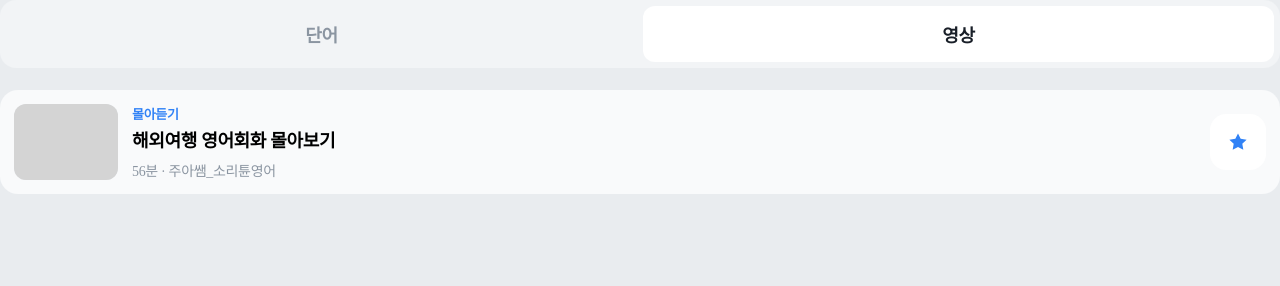
즐겨찾기 화면 › 영상을 전부 지우면 영상 빈 상태가 나온다
Expected: the text "해외여행 영어회화 몰아보기" is shown, [132,131,335,151]
What coordinates should you click on to do the following:
click the button named "해외여행 영어회화 몰아보기 즐겨찾기 해제"
I would click on:
 (1238, 142)
Its box is [1210,114,1266,170].
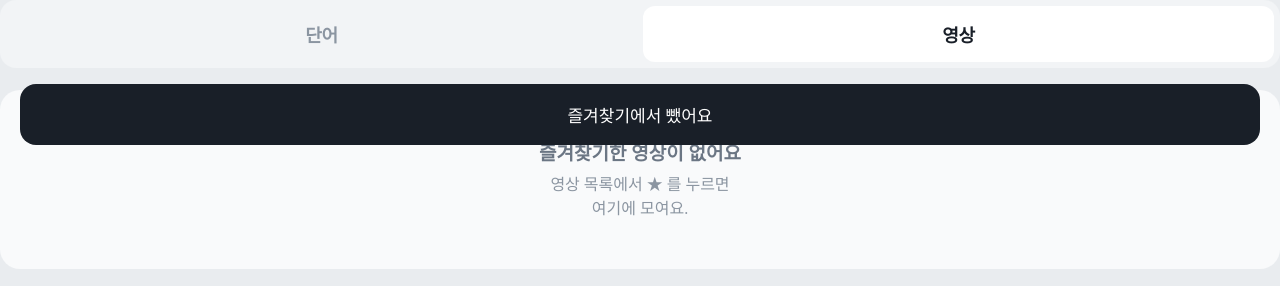
Expected: the text "즐겨찾기한 영상이 없어요" is shown, [539,138,741,165]
